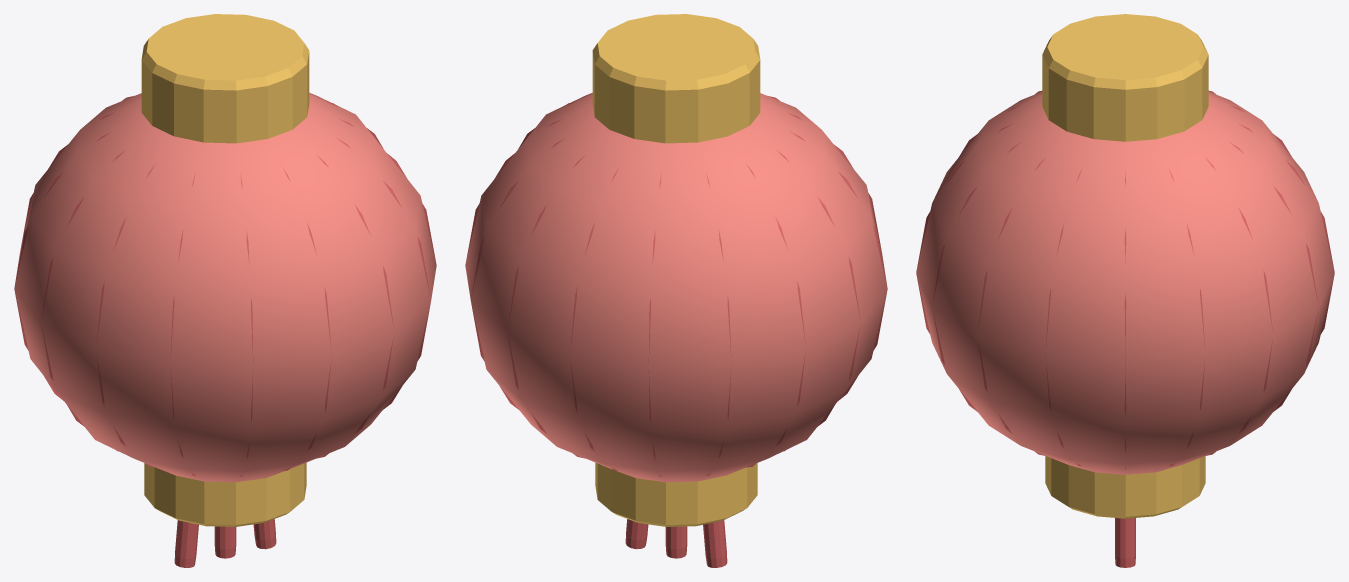
Rendered from tet_lantern.glb.
The picture shows the model from 3 angles, left to right: view 1: azimuth 30°, elevation 25°; view 2: azimuth 150°, elevation 25°; view 3: azimuth 270°, elevation 25°; orthographic projection.
Visible parts, largest first — view 1: model; view 2: model; view 3: model.
Boxes of the visible parts, x1,y1,x2,y2 form: model: (14, 14, 436, 567); model: (465, 14, 887, 567); model: (916, 14, 1334, 567).
Bounding box in the file's own units: 0.38 × 0.5 × 0.38.
